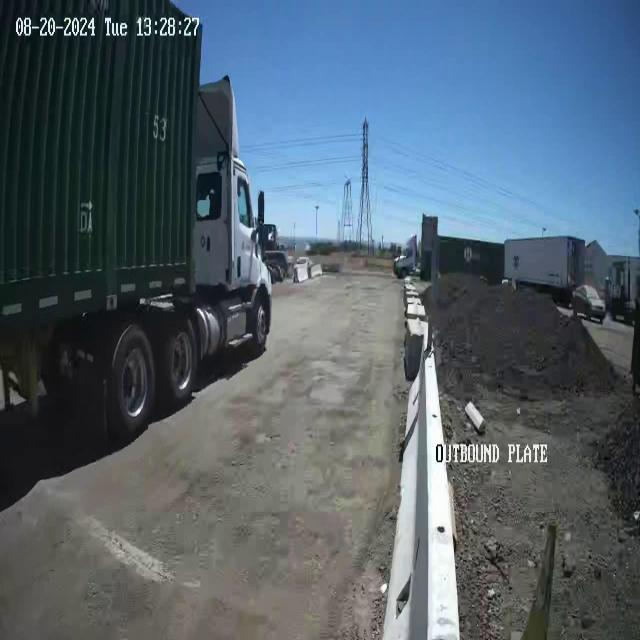TRUCK_CONTAINER: (1, 1, 273, 435)
